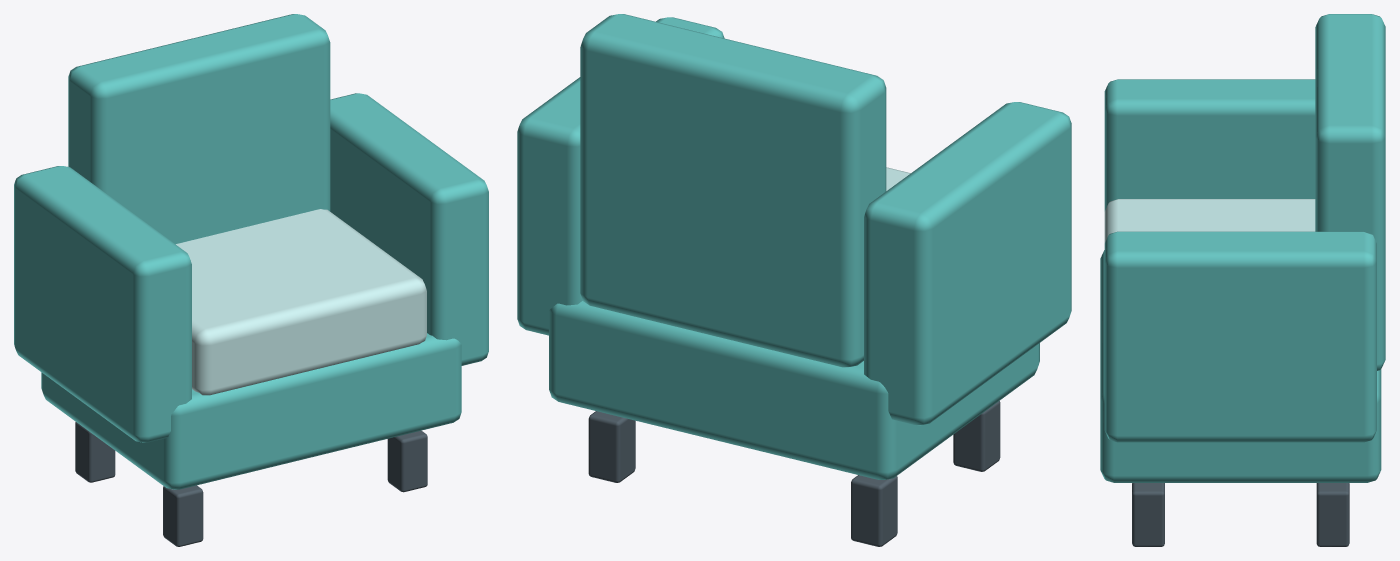
Rendered from living-armchair.glb.
3 renders of one model, left to right at view 1: azimuth 30°, elevation 25°; view 2: azimuth 150°, elevation 25°; view 3: azimuth 270°, elevation 25°, orthographic. The views are drawn at different scales.
Parts seen in each view (by area): view 1: back, arm-l, seat, base, arm-r, foot--0.31-0.21, foot-0.31-0.21, foot--0.31--0.21; view 2: back, arm-l, base, arm-r, foot--0.31--0.21, foot-0.31--0.21, foot--0.31-0.21; view 3: arm-r, arm-l, back, base, seat, foot-0.31--0.21, foot-0.31-0.21.
Boxes of the visible parts, x1,y1,x2,y2 form: back: (68, 14, 330, 244); arm-l: (14, 166, 191, 442); seat: (176, 209, 426, 395); base: (41, 333, 461, 489); arm-r: (330, 93, 488, 365); foot--0.31-0.21: (163, 485, 203, 546); foot-0.31-0.21: (387, 430, 427, 492); foot--0.31--0.21: (75, 422, 115, 482); back: (580, 14, 886, 367); arm-l: (864, 102, 1071, 425); base: (549, 301, 1039, 479); arm-r: (517, 17, 724, 335); foot--0.31--0.21: (851, 475, 897, 546); foot-0.31--0.21: (588, 411, 635, 482); foot--0.31-0.21: (953, 401, 1000, 471); arm-r: (1104, 231, 1376, 442); arm-l: (1104, 79, 1315, 211); back: (1315, 14, 1385, 370); base: (1100, 250, 1381, 482); seat: (1104, 199, 1315, 242); foot-0.31--0.21: (1316, 483, 1349, 546); foot-0.31-0.21: (1132, 483, 1164, 546).
Bounding box in the file's own units: 0.98 × 1.04 × 0.65.
